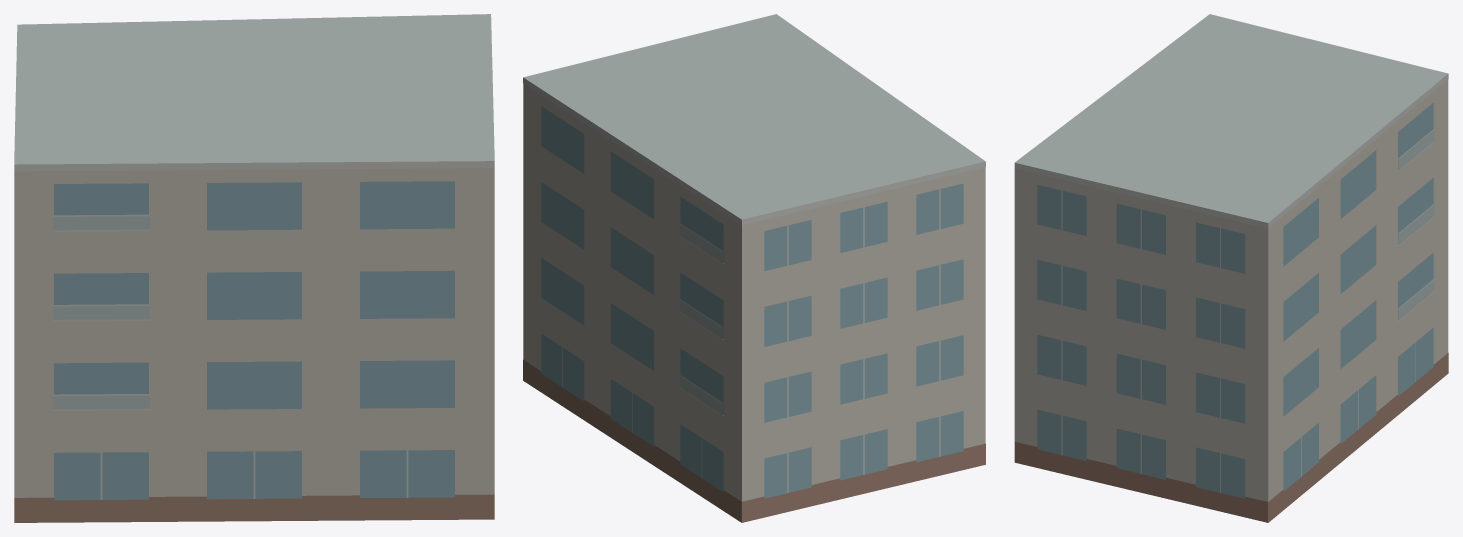
The model's file is survey-upis-32972985.glb.
3 views of the same model, side by side, from view 1: azimuth 30°, elevation 25°; view 2: azimuth 150°, elevation 25°; view 3: azimuth 270°, elevation 25° (orthographic). The views are drawn at different scales.
Visible parts, largest first — view 1: survey-upis-32972985.tmp; view 2: survey-upis-32972985.tmp; view 3: survey-upis-32972985.tmp.
Part boxes in pixels (left/top/right/bottom): survey-upis-32972985.tmp: left=14, top=14, right=494, bottom=522; survey-upis-32972985.tmp: left=523, top=14, right=985, bottom=522; survey-upis-32972985.tmp: left=1014, top=14, right=1448, bottom=522.
Bounding box in the file's own units: 19.14 × 12.8 × 16.79.
